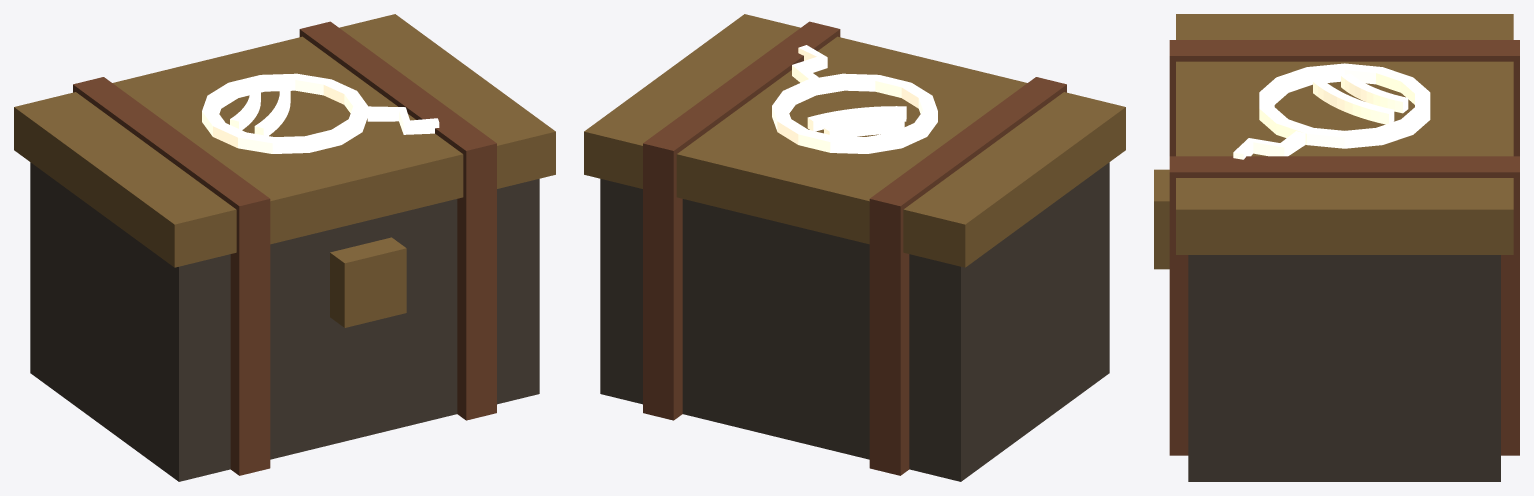
The model's file is sealed_box_apparel.glb.
3 renders of one model, left to right at view 1: azimuth 30°, elevation 25°; view 2: azimuth 150°, elevation 25°; view 3: azimuth 270°, elevation 25°, orthographic. The views are drawn at different scales.
Visible parts, largest first — view 1: sealed_box_apparel; view 2: sealed_box_apparel; view 3: sealed_box_apparel.
Part boxes in pixels (box(x1,y1,x2,y2)): sealed_box_apparel: box(14, 14, 555, 481); sealed_box_apparel: box(584, 14, 1125, 481); sealed_box_apparel: box(1154, 14, 1519, 481).
Size of the model in its own units: 0.74 by 0.51 by 0.585.
